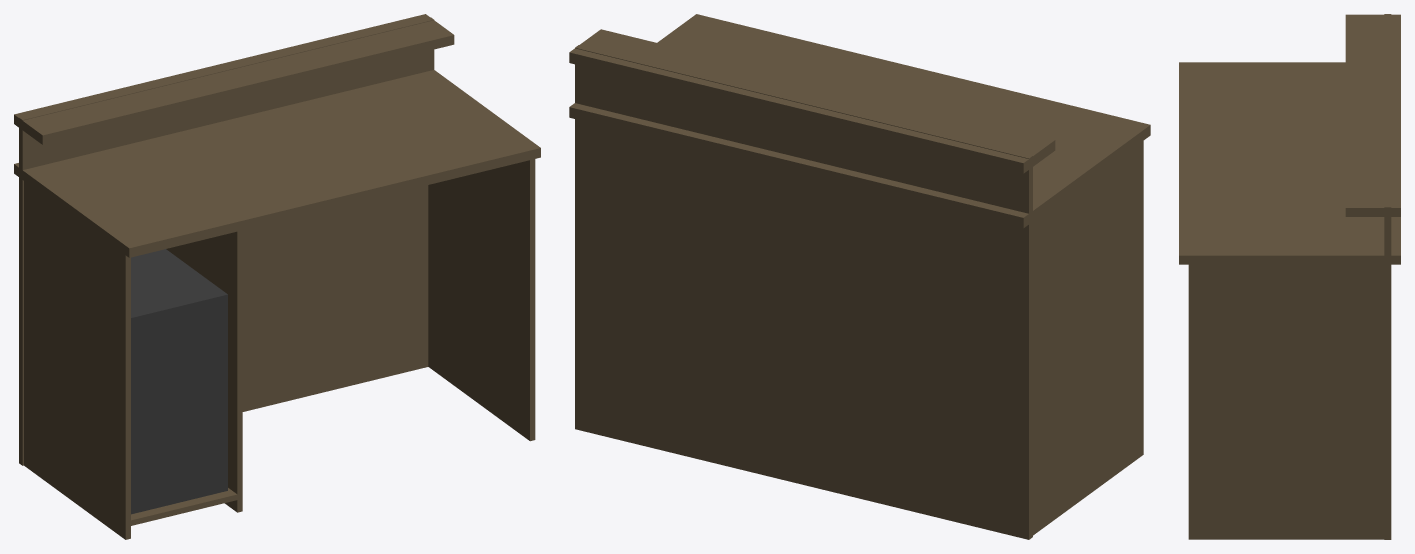
File: stol_5.fbx
The picture shows the model from 3 angles, left to right: view 1: azimuth 30°, elevation 25°; view 2: azimuth 150°, elevation 25°; view 3: azimuth 270°, elevation 25°; orthographic projection. The views are drawn at different scales.
Visible parts, largest first — view 1: stol_5; view 2: stol_5; view 3: stol_5.
Part boxes in pixels (x1=…): stol_5: x1=14, y1=14, x2=540, y2=539; stol_5: x1=569, y1=14, x2=1150, y2=539; stol_5: x1=1179, y1=14, x2=1400, y2=539.
Size of the model in its own units: 122 by 97.92 by 59.18.
